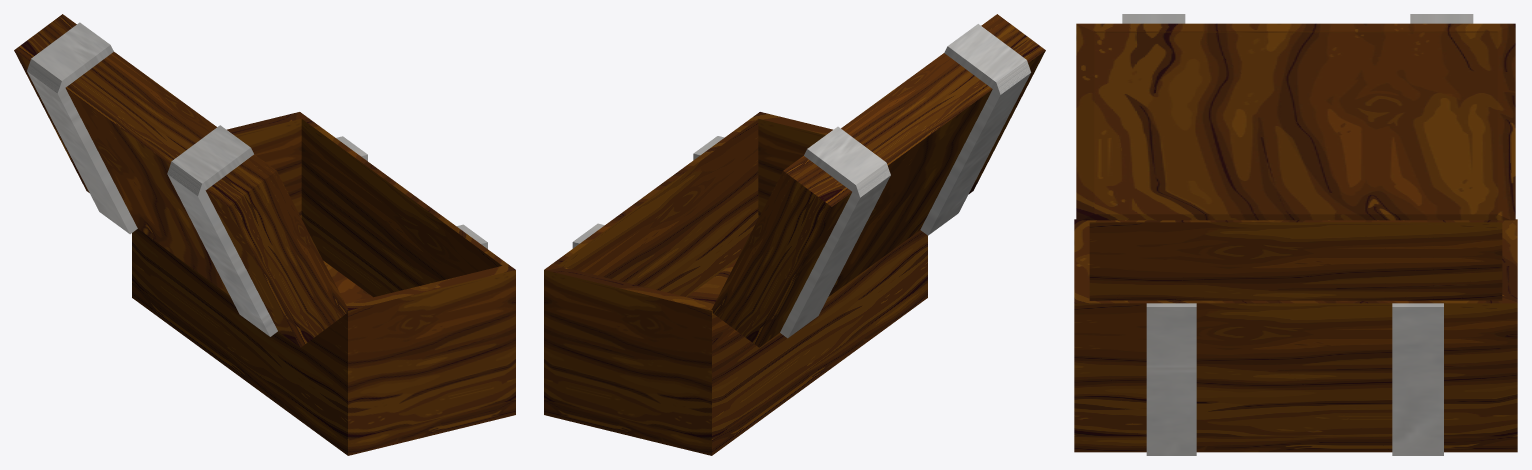
File: chest_empty.glb
3 renders of one model, left to right at view 1: azimuth 30°, elevation 25°; view 2: azimuth 150°, elevation 25°; view 3: azimuth 270°, elevation 25°, orthographic. The views are drawn at different scales.
Parts seen in each view (by area): view 1: dol, wieko, metal; view 2: dol, wieko, metal; view 3: dol, wieko, metal.
Part boxes in pixels (box(x1,y1,x2,y2)): dol: box(132, 112, 515, 455); wieko: box(14, 14, 348, 347); metal: box(27, 22, 487, 336); dol: box(544, 112, 927, 455); wieko: box(711, 14, 1045, 347); metal: box(572, 24, 1030, 338); dol: box(1074, 219, 1517, 452); wieko: box(1076, 23, 1515, 220); metal: box(1122, 14, 1473, 455).
Size of the model in its own units: 3.6 by 3.52 by 4.46.
2 materials, 2 textured.
